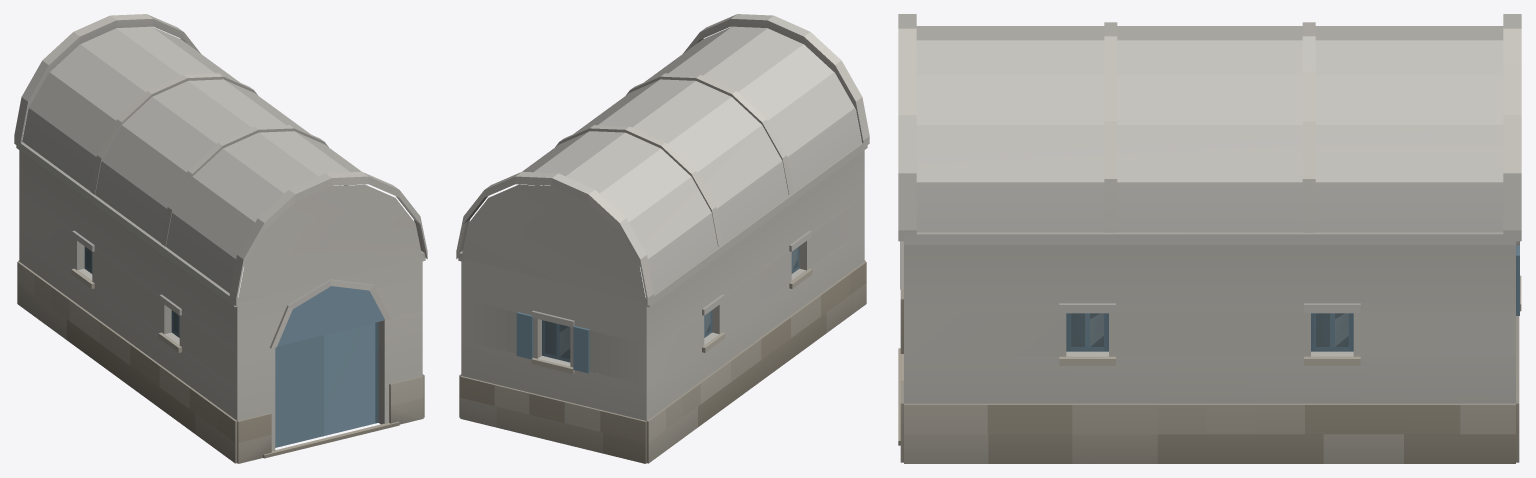
Rendered from boathouse.lod1.glb.
The picture shows the model from 3 angles, left to right: view 1: azimuth 30°, elevation 25°; view 2: azimuth 150°, elevation 25°; view 3: azimuth 270°, elevation 25°; orthographic projection. The views are drawn at different scales.
Bounding box in the file's own units: 4.39 × 5.77 × 8.8.
